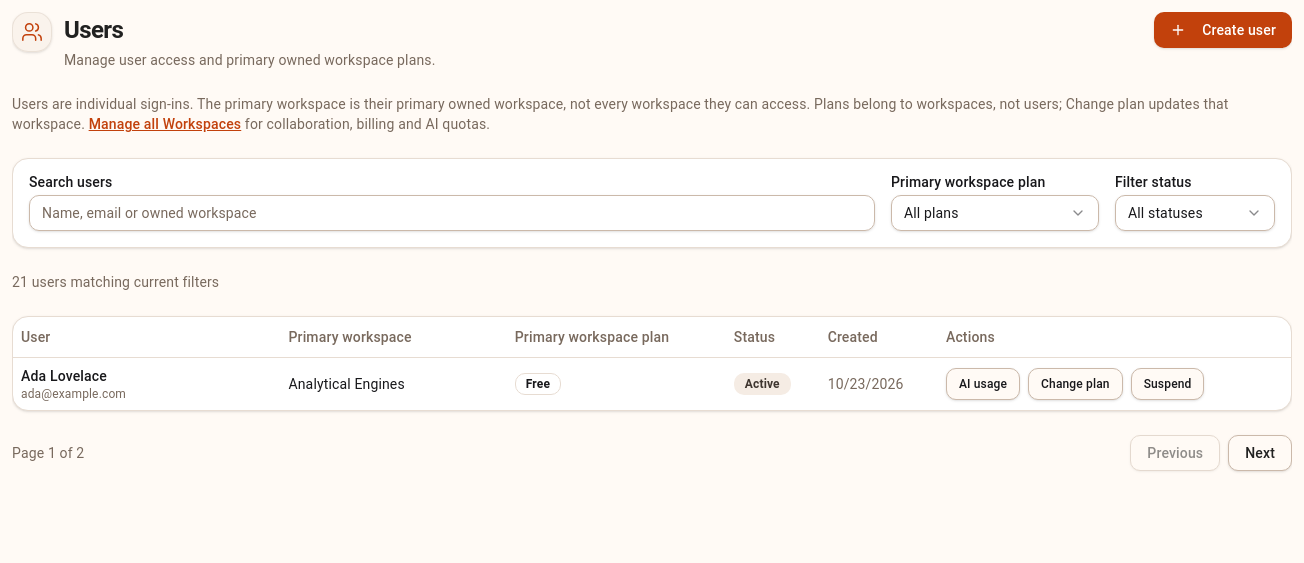
AdminUsersTable › shows empty results and recovers when a page disappears
The width and height of the screenshot is (1304, 563).
Click the button "Next" at (1260, 452), box [1228,434,1292,470]
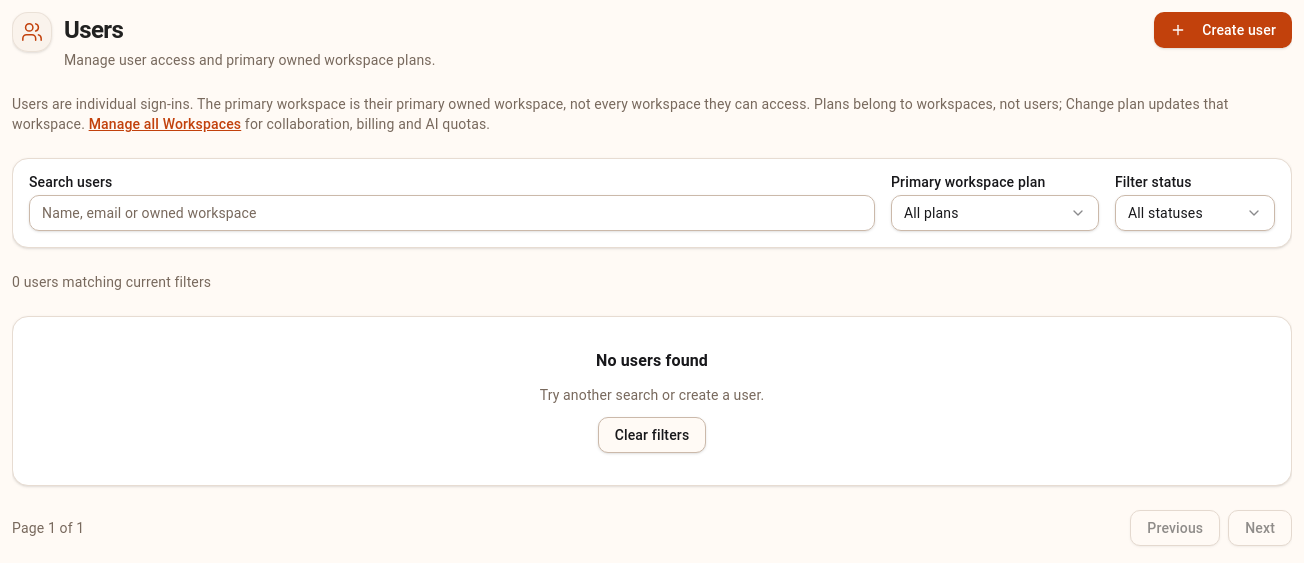
Check: the heading "No users found" is shown, box [596,351,708,370]
Check: the text "Page 1 of 1" is shown, box [12,518,84,538]
Check: the button "Next" is disabled, box [1228,510,1292,546]
